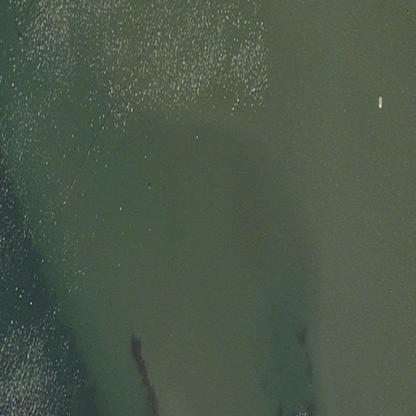ship: (370, 90, 388, 112)
